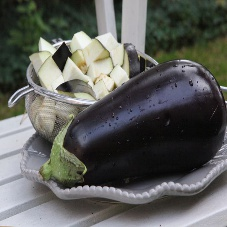eggplant: (54, 58, 223, 190)
